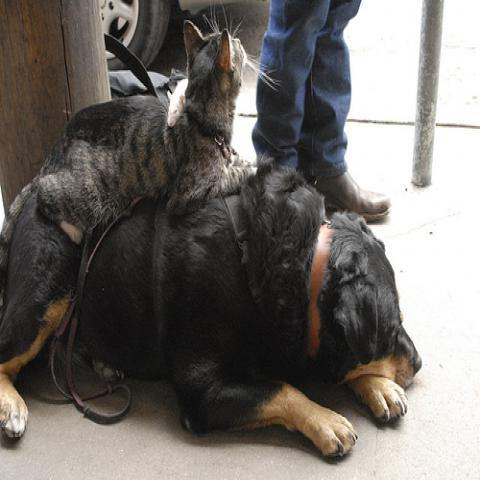car: (98, 0, 248, 72)
